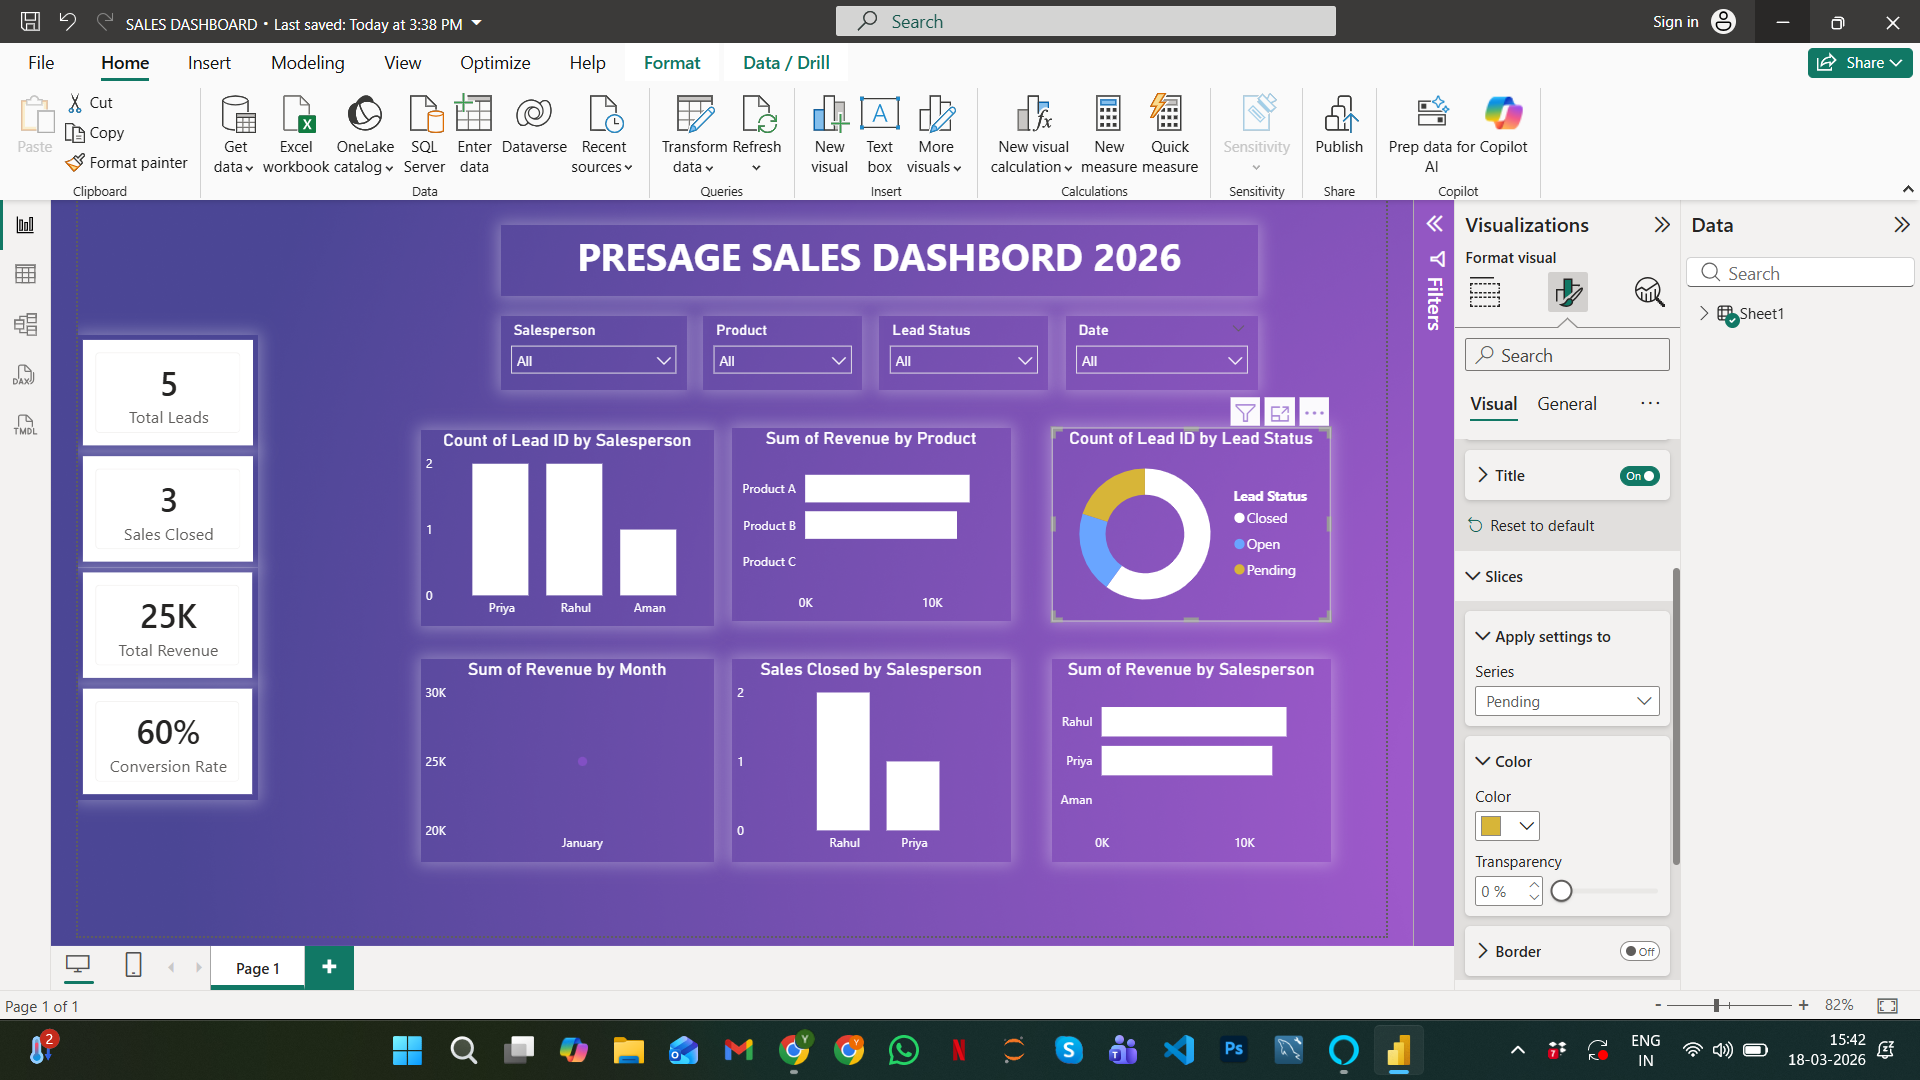

What the dashboard file says about the page in this screenshot:
{"tool":"powerbi","page":{"name":"Page 1","canvas":[1280,720],"ordinal":0},"visuals":[{"type":"cardVisual","fields":{"Data":["Sheet1.Total Leads"]},"box":[0,132.1,176.1,113.7],"z":0},{"type":"cardVisual","fields":{"Data":["Sheet1.Sales Closed"]},"box":[0,245.8,176.1,113.7],"z":1000},{"type":"cardVisual","fields":{"Data":["Sheet1.Total Revenue"]},"box":[0,359.5,175.6,113.9],"z":2000},{"type":"cardVisual","fields":{"Data":["Sheet1.Conversion Rate"]},"box":[0,473.4,175.6,113.9],"z":3000},{"type":"textbox","box":[413.3,24.5,741,69.7],"z":4000},{"type":"clusteredColumnChart","fields":{"Category":["Sheet1.Salesperson"],"Y":["CountNonNull(Sheet1.Lead ID)"]},"box":[335.1,225,287.4,192],"z":5000},{"type":"barChart","fields":{"Category":["Sheet1.Product"],"Y":["Sum(Sheet1.Revenue)"]},"box":[639.5,222.6,272.7,189.5],"z":6000},{"type":"donutChart","fields":{"Category":["Sheet1.Lead Status"],"Y":["CountNonNull(Sheet1.Lead ID)"]},"box":[952.6,222.6,272.7,189.5],"z":7000},{"type":"lineChart","fields":{"Category":["Sheet1.Date.Variation.Date Hierarchy.Month","Sheet1.Date.Variation.Date Hierarchy.Day"],"Y":["Sum(Sheet1.Revenue)"]},"box":[335.1,448.8,287.4,198.1],"z":8000},{"type":"clusteredColumnChart","fields":{"Category":["Sheet1.Salesperson"],"Y":["Sheet1.Sales Closed"]},"box":[639.5,448.8,272.7,198.1],"z":9000},{"type":"barChart","fields":{"Y":["Sum(Sheet1.Revenue)"],"Category":["Sheet1.Salesperson"]},"box":[952.6,448.8,272.7,198.1],"z":10000},{"type":"slicer","fields":{"Values":["Sheet1.Salesperson"]},"box":[413.3,113.7,182.2,72.1],"z":11000},{"type":"slicer","fields":{"Values":["Sheet1.Product"]},"box":[611.4,113.7,155.3,72.1],"z":12000},{"type":"slicer","fields":{"Values":["Sheet1.Lead Status"]},"box":[783.8,113.7,165.1,72.1],"z":13000},{"type":"slicer","fields":{"Values":["Sheet1.Date"]},"box":[966,113.7,188.3,72.1],"z":14000}]}

Visuals, with their boxes on the page's 1280x720 design canvas (x1, y1, x2, y2). These are canvas units, not pixel positions in the 1920x1080 screenshot, which may show the page scaled, cropped or inside an application window:
cardVisual - Sheet1.Total Leads: (x1=0, y1=132, x2=176, y2=246)
cardVisual - Sheet1.Sales Closed: (x1=0, y1=246, x2=176, y2=360)
cardVisual - Sheet1.Total Revenue: (x1=0, y1=360, x2=176, y2=473)
cardVisual - Sheet1.Conversion Rate: (x1=0, y1=473, x2=176, y2=587)
textbox: (x1=413, y1=24, x2=1154, y2=94)
clusteredColumnChart - Sheet1.Salesperson x CountNonNull(Sheet1.Lead ID): (x1=335, y1=225, x2=622, y2=417)
barChart - Sheet1.Product x Sum(Sheet1.Revenue): (x1=640, y1=223, x2=912, y2=412)
donutChart - Sheet1.Lead Status x CountNonNull(Sheet1.Lead ID): (x1=953, y1=223, x2=1225, y2=412)
lineChart - Sheet1.Date.Variation.Date Hierarchy.Month x Sheet1.Date.Variation.Date Hierarchy.Day: (x1=335, y1=449, x2=622, y2=647)
clusteredColumnChart - Sheet1.Salesperson x Sheet1.Sales Closed: (x1=640, y1=449, x2=912, y2=647)
barChart - Sum(Sheet1.Revenue) x Sheet1.Salesperson: (x1=953, y1=449, x2=1225, y2=647)
slicer - Sheet1.Salesperson: (x1=413, y1=114, x2=596, y2=186)
slicer - Sheet1.Product: (x1=611, y1=114, x2=767, y2=186)
slicer - Sheet1.Lead Status: (x1=784, y1=114, x2=949, y2=186)
slicer - Sheet1.Date: (x1=966, y1=114, x2=1154, y2=186)
